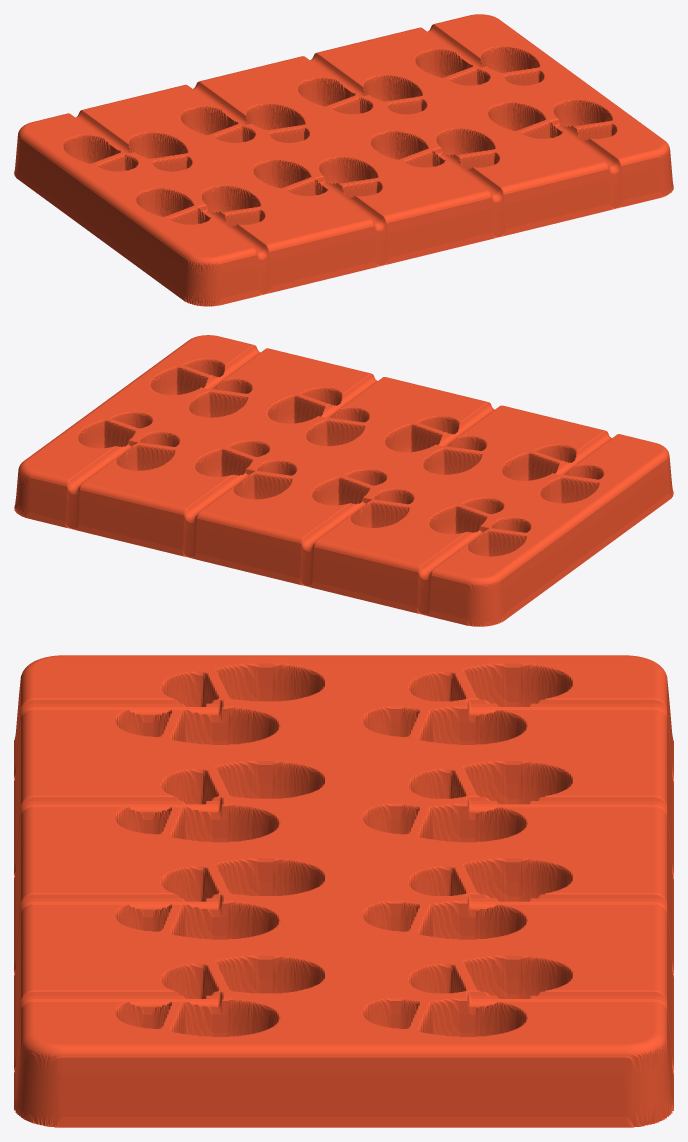
File: mold.glb
3 views of the same model, one above another, from view 1: azimuth 30°, elevation 25°; view 2: azimuth 150°, elevation 25°; view 3: azimuth 270°, elevation 25° (orthographic). The views are drawn at different scales.
Parts seen in each view (by area): view 1: geometry_0; view 2: geometry_0; view 3: geometry_0.
Boxes of the visible parts, x1,y1,x2,y2 form: geometry_0: (14,14,673,306); geometry_0: (14,335,673,626); geometry_0: (14,655,673,1127).
Bounding box in the file's own units: 0.1779 × 0.0155 × 0.1229.
